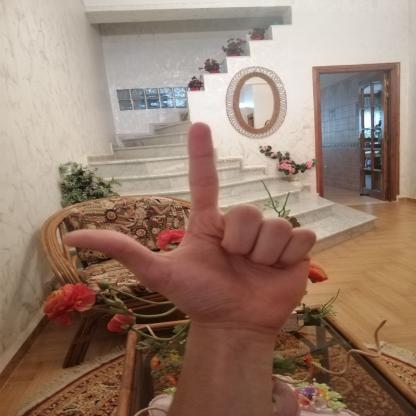LAAM: (42, 110, 338, 351)
